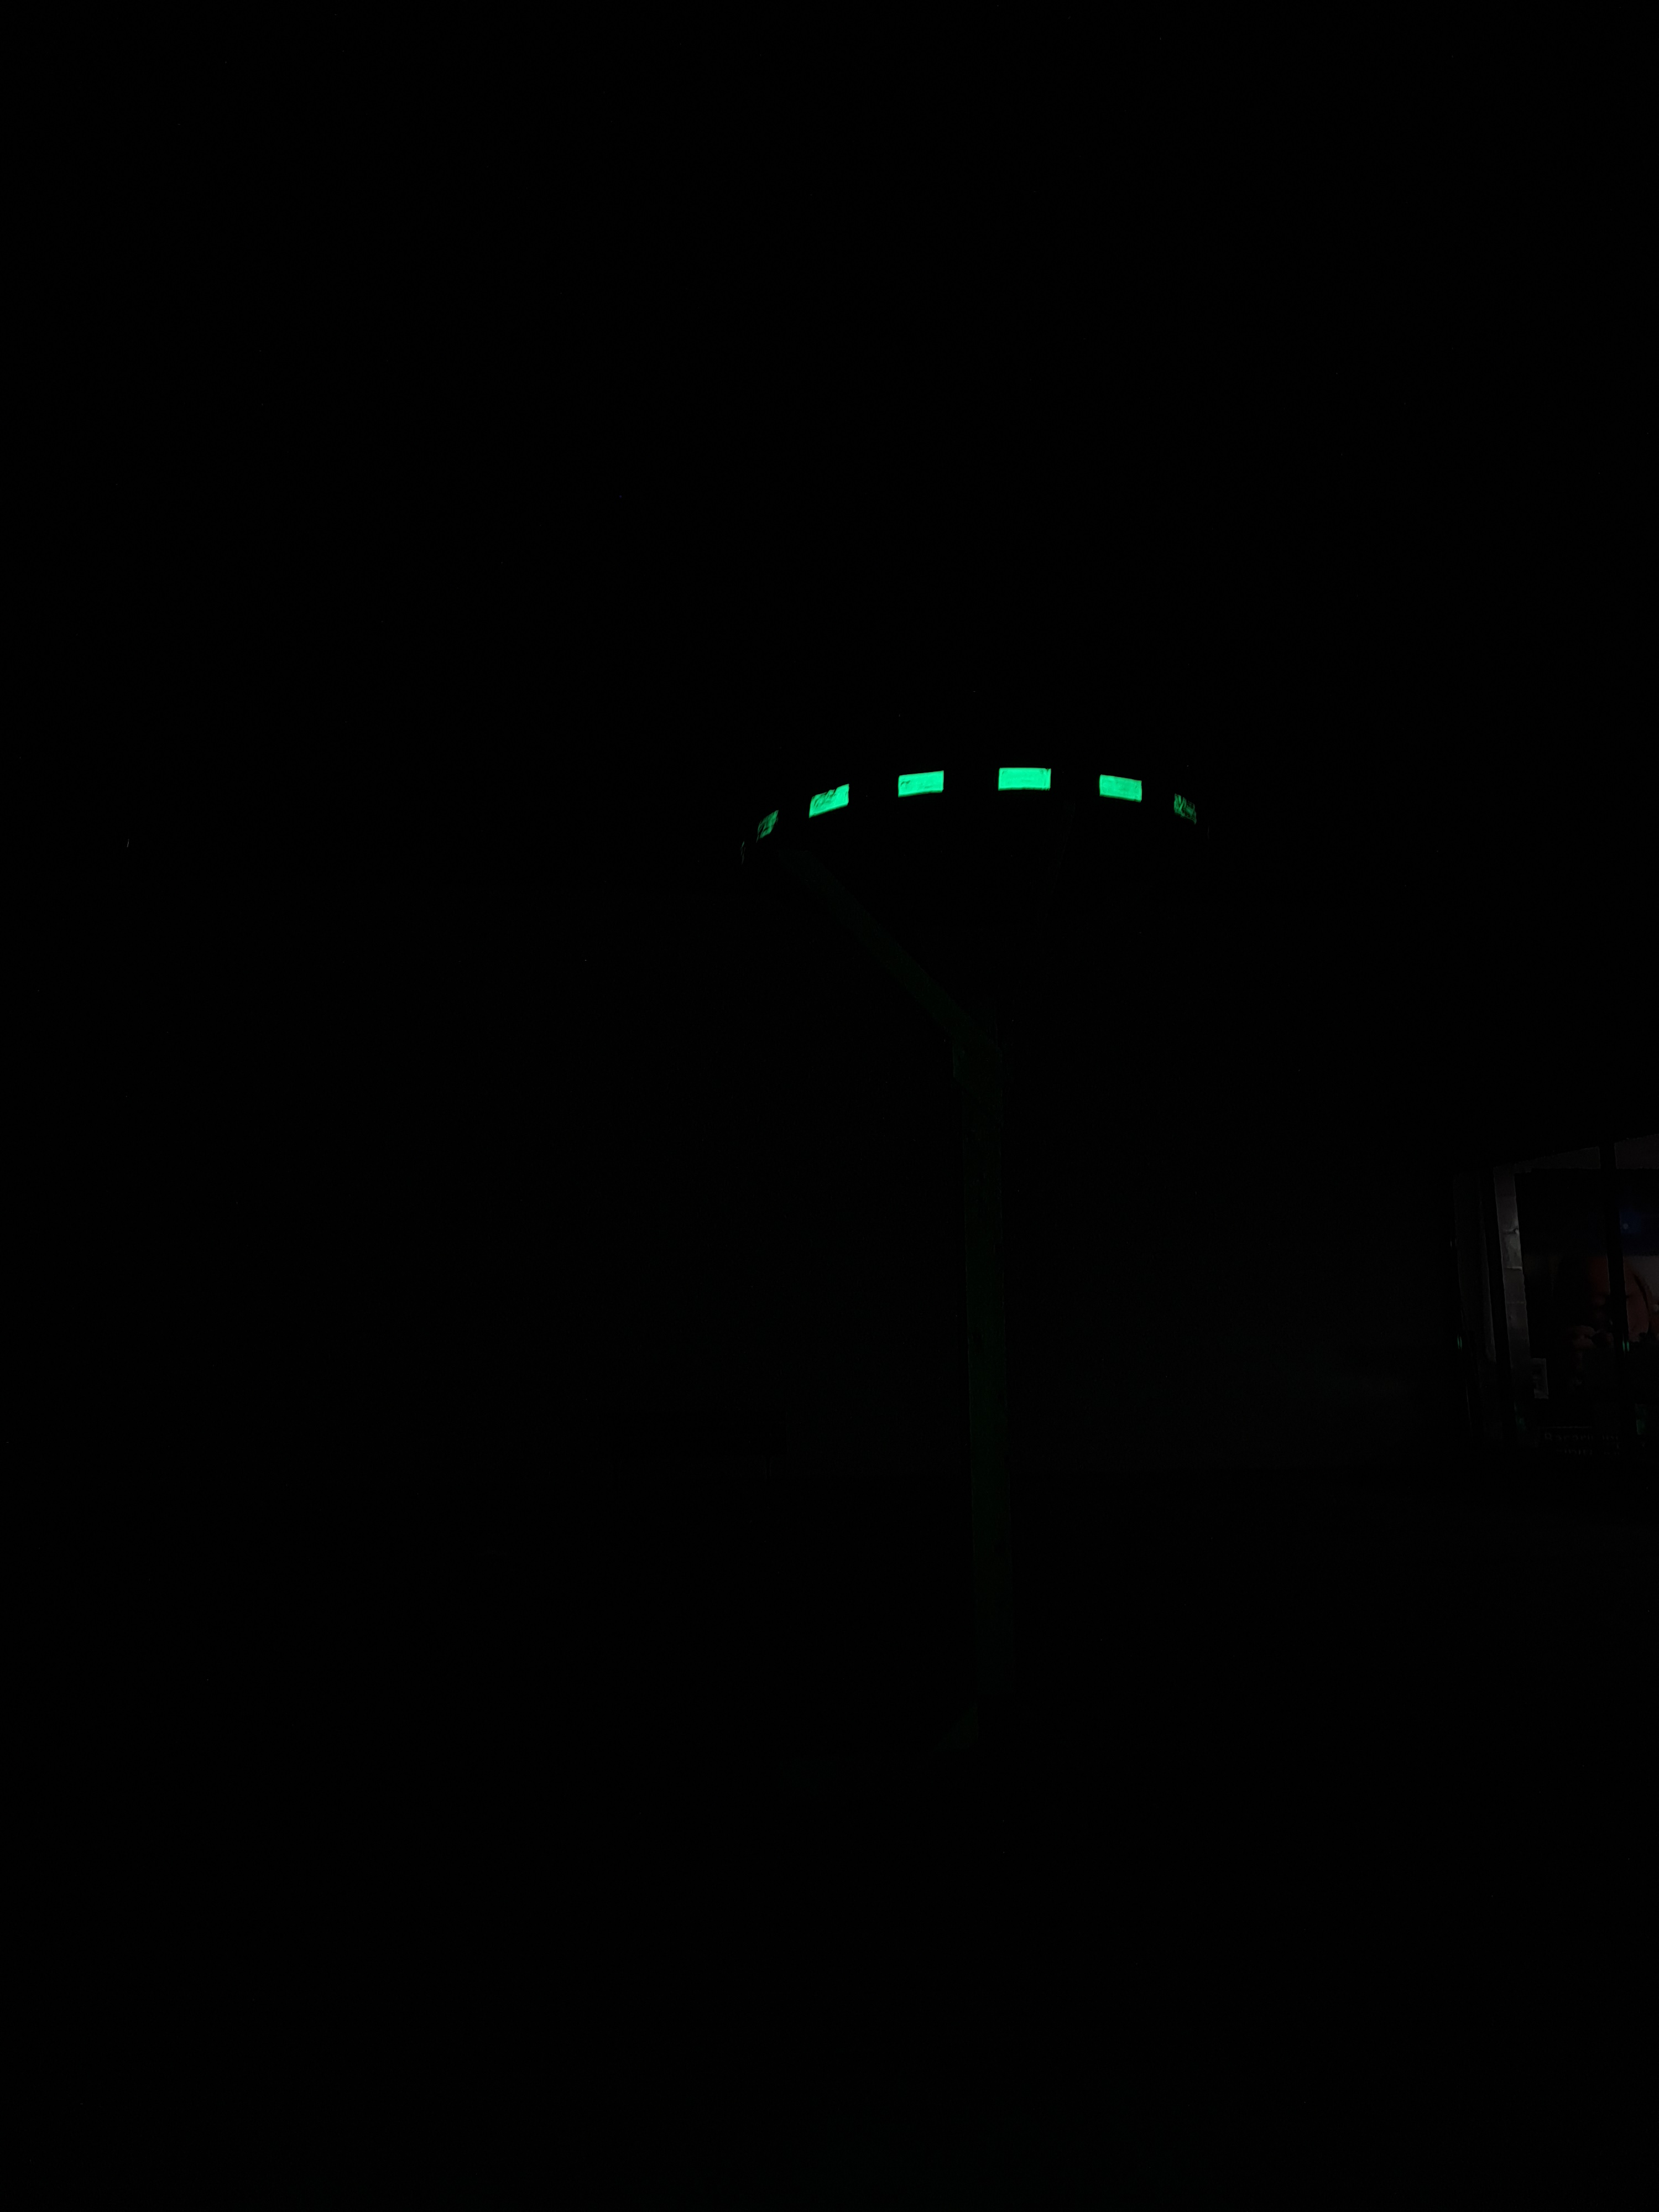hoop: (721, 749, 1225, 838)
